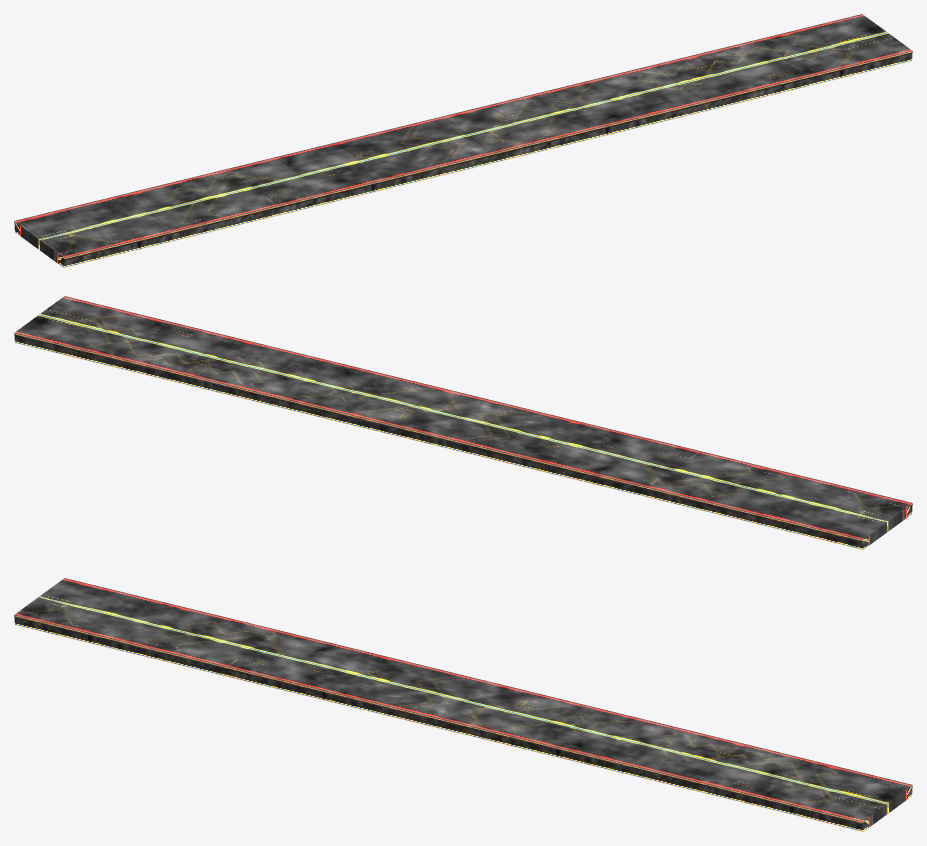
Rendered from planebase.fbx.
The picture shows the model from 3 angles, top to bottom: view 1: azimuth 30°, elevation 25°; view 2: azimuth 150°, elevation 25°; view 3: azimuth 330°, elevation 25°; orthographic projection.
Visible parts, largest first — view 1: Plane; view 2: Plane; view 3: Plane.
Boxes of the visible parts, left/top/right/bottom form: Plane: left=14, top=14, right=912, bottom=267; Plane: left=14, top=296, right=912, bottom=549; Plane: left=14, top=578, right=912, bottom=831.
Size of the model in its own units: 2000 by 23.87 by 207.
